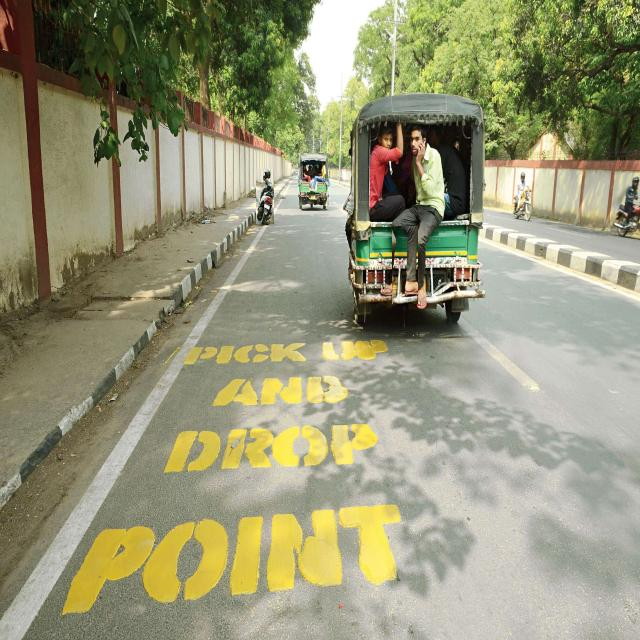autorickshaw: (345, 92, 485, 323), (392, 227, 418, 304), (299, 153, 328, 209)
motorcycle: (256, 170, 274, 224)
